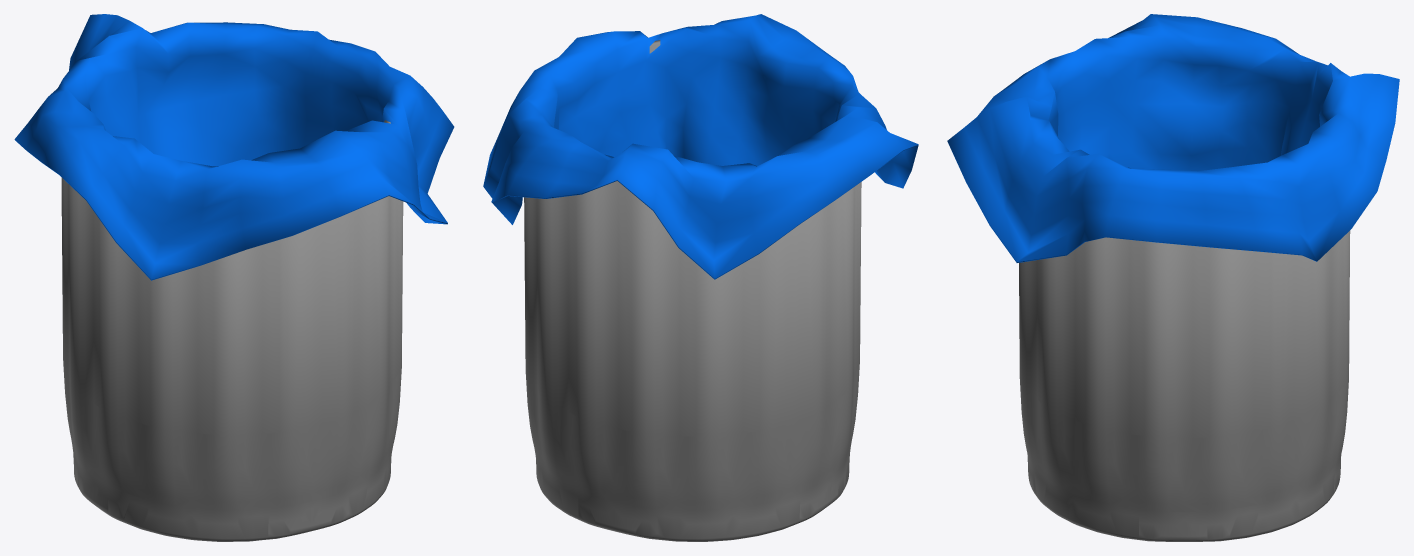
The model's file is blue_can.fbx.
The picture shows the model from 3 angles, left to right: view 1: azimuth 30°, elevation 25°; view 2: azimuth 150°, elevation 25°; view 3: azimuth 270°, elevation 25°; orthographic projection.
Parts seen in each view (by area): view 1: Circle.001; view 2: Circle.001; view 3: Circle.001.
Part boxes in pixels (<box>): Circle.001: <box>14,14,454,541</box>; Circle.001: <box>483,14,918,541</box>; Circle.001: <box>947,14,1399,541</box>.
Size of the model in its own units: 272 by 278 by 288.
